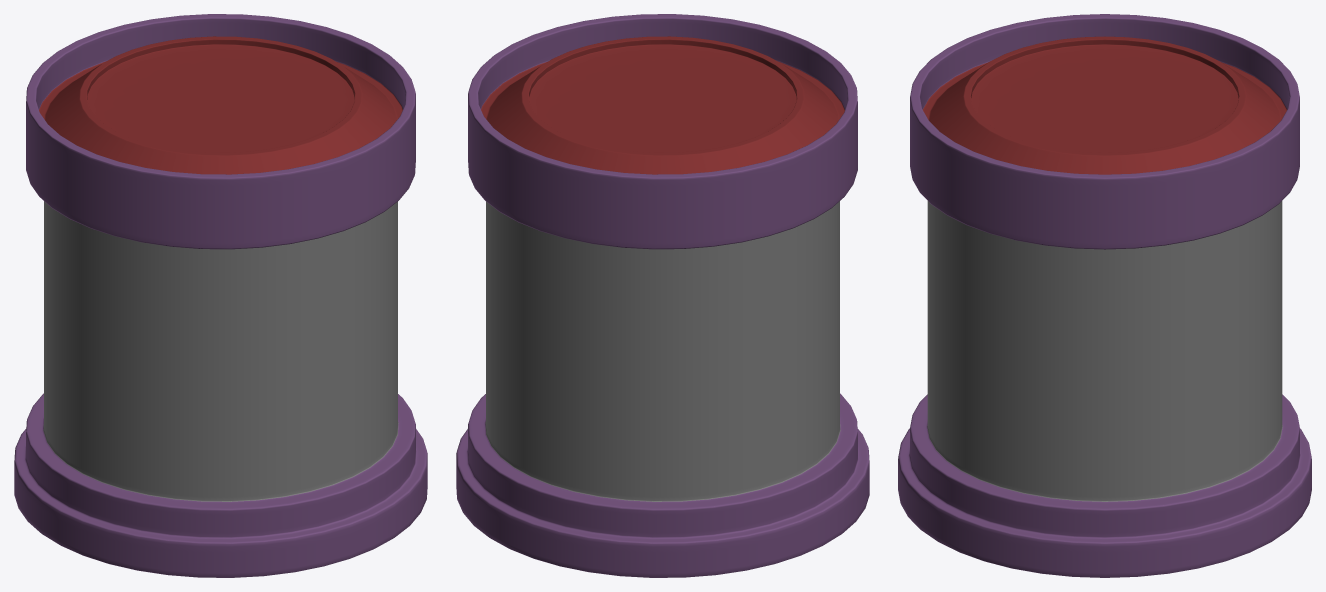
The model's file is Bucket3.fbx.
3 views of the same model, side by side, from view 1: azimuth 30°, elevation 25°; view 2: azimuth 150°, elevation 25°; view 3: azimuth 270°, elevation 25° (orthographic).
Visible parts, largest first — view 1: Bucket3_High (×3); view 2: Bucket3_High (×3); view 3: Bucket3_High (×3).
Boxes of the visible parts, box(x1,y1,x2,y2) form: Bucket3_High (×3): box(14, 14, 427, 577); Bucket3_High (×3): box(456, 14, 869, 577); Bucket3_High (×3): box(898, 14, 1311, 577).
Size of the model in its own units: 0.6983 by 0.7361 by 0.6983.
